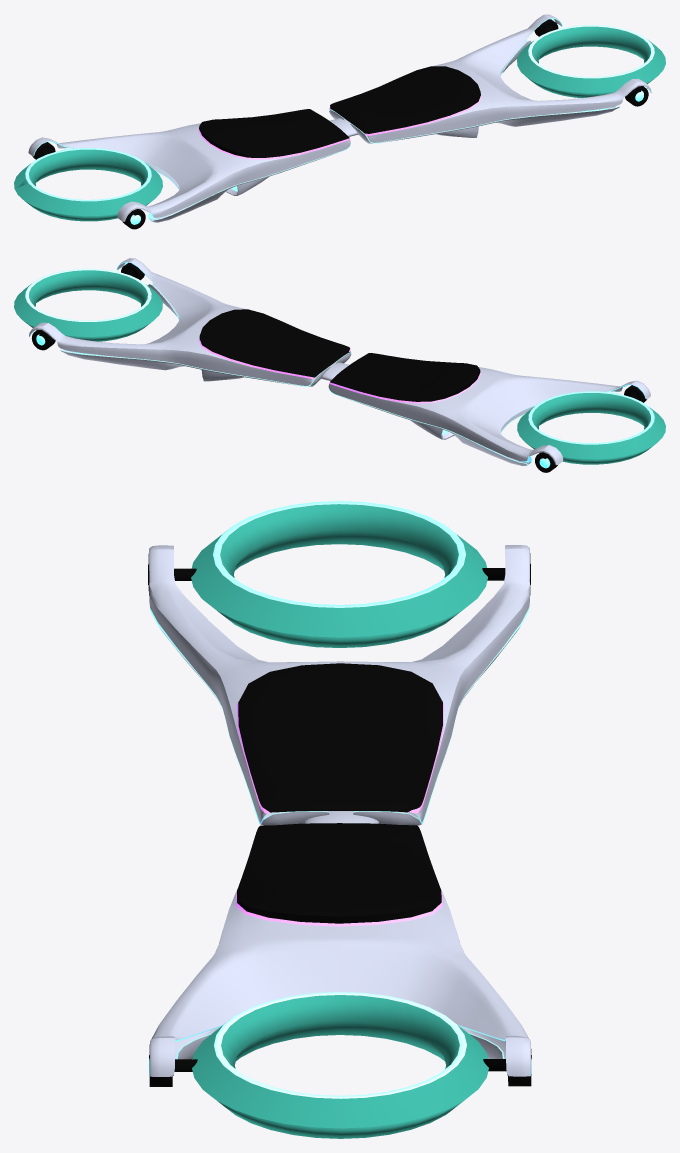
File: hoverboardv2.glb
3 renders of one model, top to bottom at view 1: azimuth 30°, elevation 25°; view 2: azimuth 150°, elevation 25°; view 3: azimuth 270°, elevation 25°, orthographic. The views are drawn at different scales.
Parts seen in each view (by area): view 1: Plane.006, Plane.009; view 2: Plane.006, Plane.009; view 3: Plane.006, Plane.009.
Part boxes in pixels (bbox=[...]): Plane.006: bbox=[329, 14, 665, 143]; Plane.009: bbox=[14, 109, 350, 229]; Plane.006: bbox=[14, 258, 351, 386]; Plane.009: bbox=[328, 353, 665, 472]; Plane.006: bbox=[149, 823, 531, 1138]; Plane.009: bbox=[148, 501, 530, 825].
Bounding box in the file's own units: 2.01 × 0.1509 × 0.5286.
